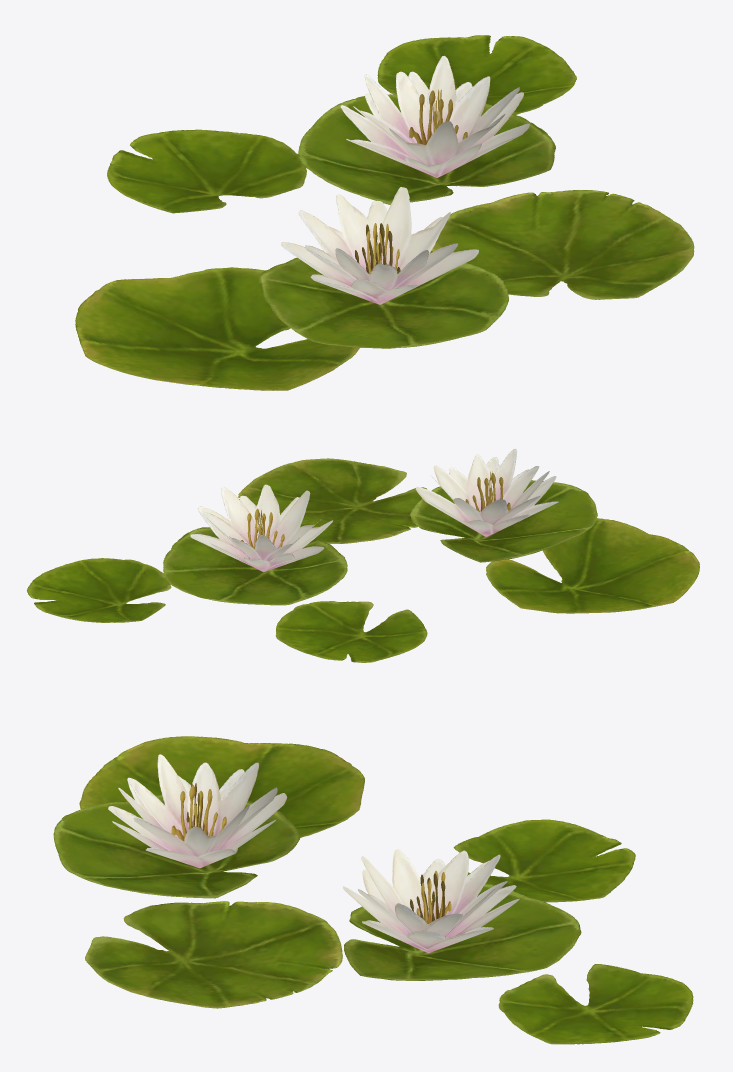
Rendered from SC_SLtree11.FBX.
3 renders of one model, top to bottom at view 1: azimuth 30°, elevation 25°; view 2: azimuth 150°, elevation 25°; view 3: azimuth 270°, elevation 25°, orthographic. The views are drawn at different scales.
Visible parts, largest first — view 1: SC_SLtree11; view 2: SC_SLtree11; view 3: SC_SLtree11.
Boxes of the visible parts, box(x1,y1,x2,y2) form: SC_SLtree11: box(75, 35, 694, 390); SC_SLtree11: box(27, 449, 699, 662); SC_SLtree11: box(53, 736, 693, 1044).
Size of the model in its own units: 266 by 42.56 by 223.
